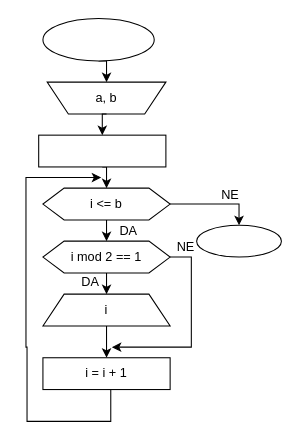
Some shapes in this 300 by 448 pixel diagram are drawn without their labels. Here are the shapes that lost their labels. From the top down, the box of each, then its label:
(42, 17, 154, 61): Start
(38, 134, 166, 167): i = a
(196, 224, 281, 257): Kraj
